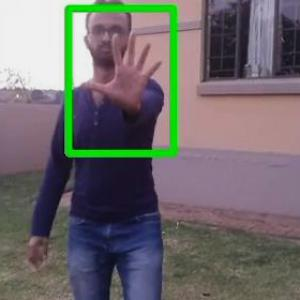follow_hand: (79, 27, 164, 111)
